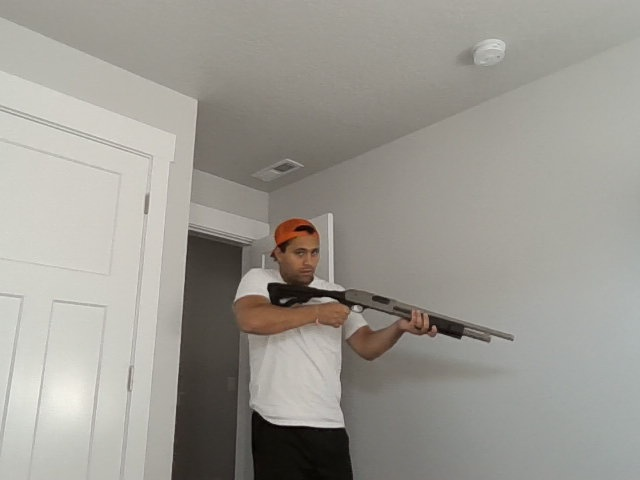shotgun: (267, 280, 515, 345)
